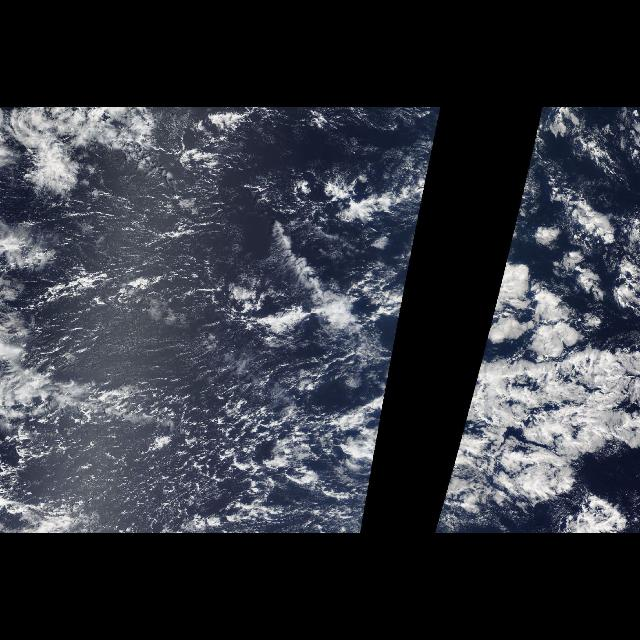Flower: (484, 227, 636, 351)
Gravel: (57, 338, 327, 532)
Sugar: (45, 225, 362, 397), (27, 418, 377, 534)
